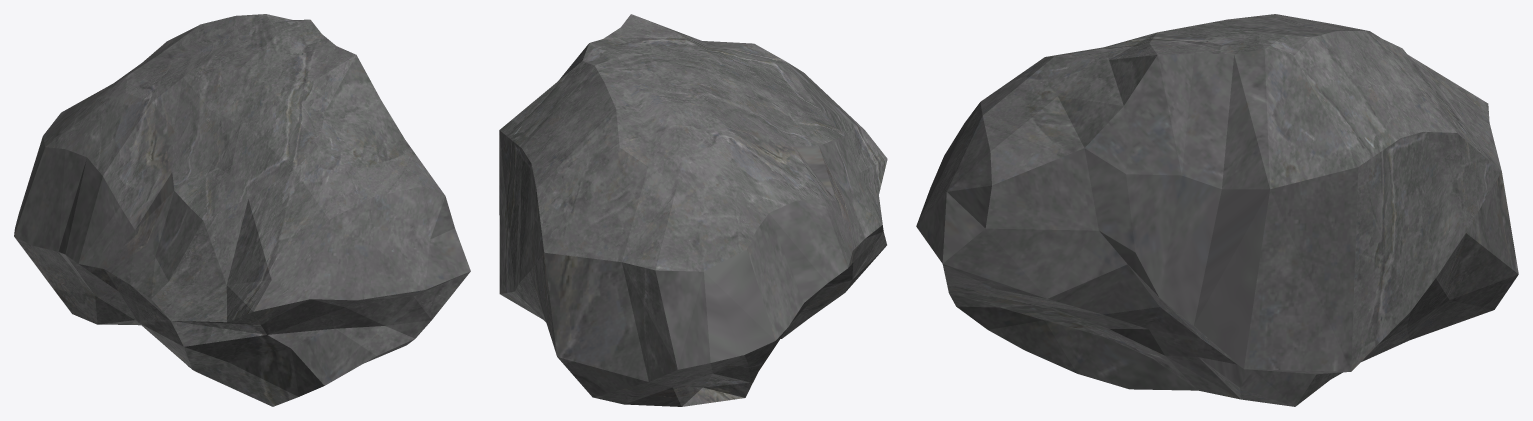
File: Rock03.fbx
3 renders of one model, left to right at view 1: azimuth 30°, elevation 25°; view 2: azimuth 150°, elevation 25°; view 3: azimuth 270°, elevation 25°, orthographic. The views are drawn at different scales.
Parts seen in each view (by area): view 1: SM_ENV_NATURE_Cave_Rock_M_02.mo; view 2: SM_ENV_NATURE_Cave_Rock_M_02.mo; view 3: SM_ENV_NATURE_Cave_Rock_M_02.mo.
Part boxes in pixels (left/top/right/bottom): SM_ENV_NATURE_Cave_Rock_M_02.mo: left=14, top=14, right=470, bottom=406; SM_ENV_NATURE_Cave_Rock_M_02.mo: left=499, top=14, right=887, bottom=406; SM_ENV_NATURE_Cave_Rock_M_02.mo: left=916, top=14, right=1518, bottom=406.
Bounding box in the file's own units: 126 × 115 × 172.
1 material, 1 textured.
